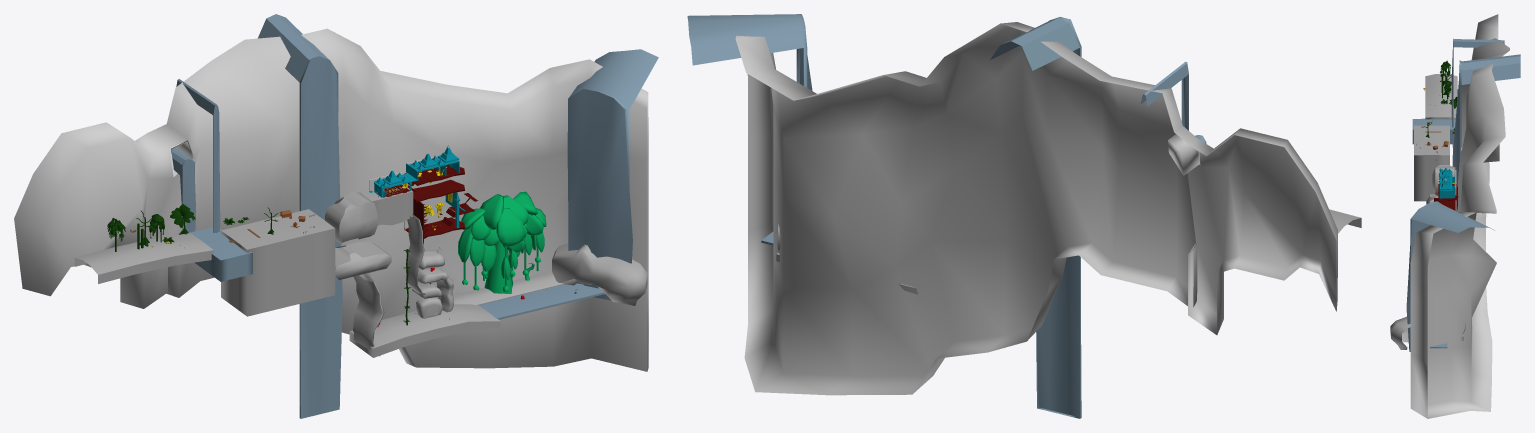
File: LevelLayoutItems.fbx
The picture shows the model from 3 angles, left to right: view 1: azimuth 30°, elevation 25°; view 2: azimuth 150°, elevation 25°; view 3: azimuth 270°, elevation 25°; orthographic projection. The views are drawn at different scales.
Parts seen in each view (by area): view 1: Background, waterfall4, Waterfall3, Ground2, SwampTree, Ground1, Ground59, CaveWallls12, SwampWater, CaveWallls1, Water, CaveWall (+8 smaller); view 2: Background, Waterfall3, waterfall4, Waterfall2; view 3: Background, Ground2, Waterfall3, waterfall4, Ground1, Waterfall2, CaveWallls12, Water, CaveWallls1, Tree3.
Part boxes in pixels (x1,y1,x2,y2): Background: (14,28,648,371); waterfall4: (567,49,658,300); Waterfall3: (257,14,342,418); Ground2: (221,209,335,316); SwampTree: (458,191,546,293); Ground1: (74,233,213,283); Ground59: (349,304,500,357); CaveWallls12: (552,243,647,305); SwampWater: (479,283,604,319); CaveWallls1: (325,191,377,243); Water: (189,227,252,281); CaveWall: (353,273,384,356); Background: (735,22,1337,395); Waterfall3: (990,17,1081,418); waterfall4: (687,14,812,90); Waterfall2: (1140,61,1188,130); Background: (1410,14,1509,418); Ground2: (1414,125,1449,201); Waterfall3: (1452,54,1520,185); waterfall4: (1406,201,1494,351); Ground1: (1425,74,1457,119); Waterfall2: (1451,38,1504,150); CaveWallls12: (1390,316,1465,349); Water: (1412,118,1455,144); CaveWallls1: (1432,165,1455,195); Tree3: (1440,60,1450,80).
Size of the model in its own units: 603 by 369 by 161.
